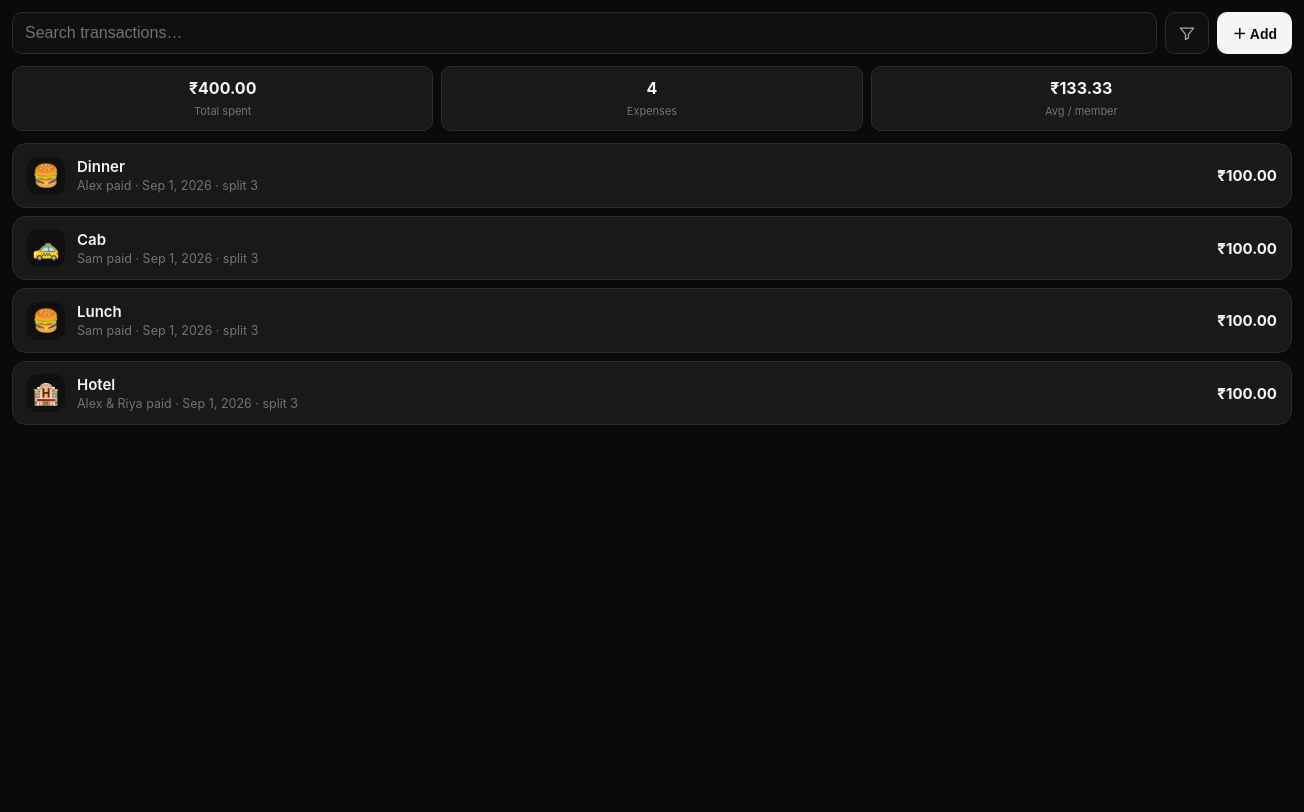
Test case: TransactionsPanel filters › closes the panel from its own X
Click the button named "Filters" at (1187, 33), box [1165,12,1209,54]
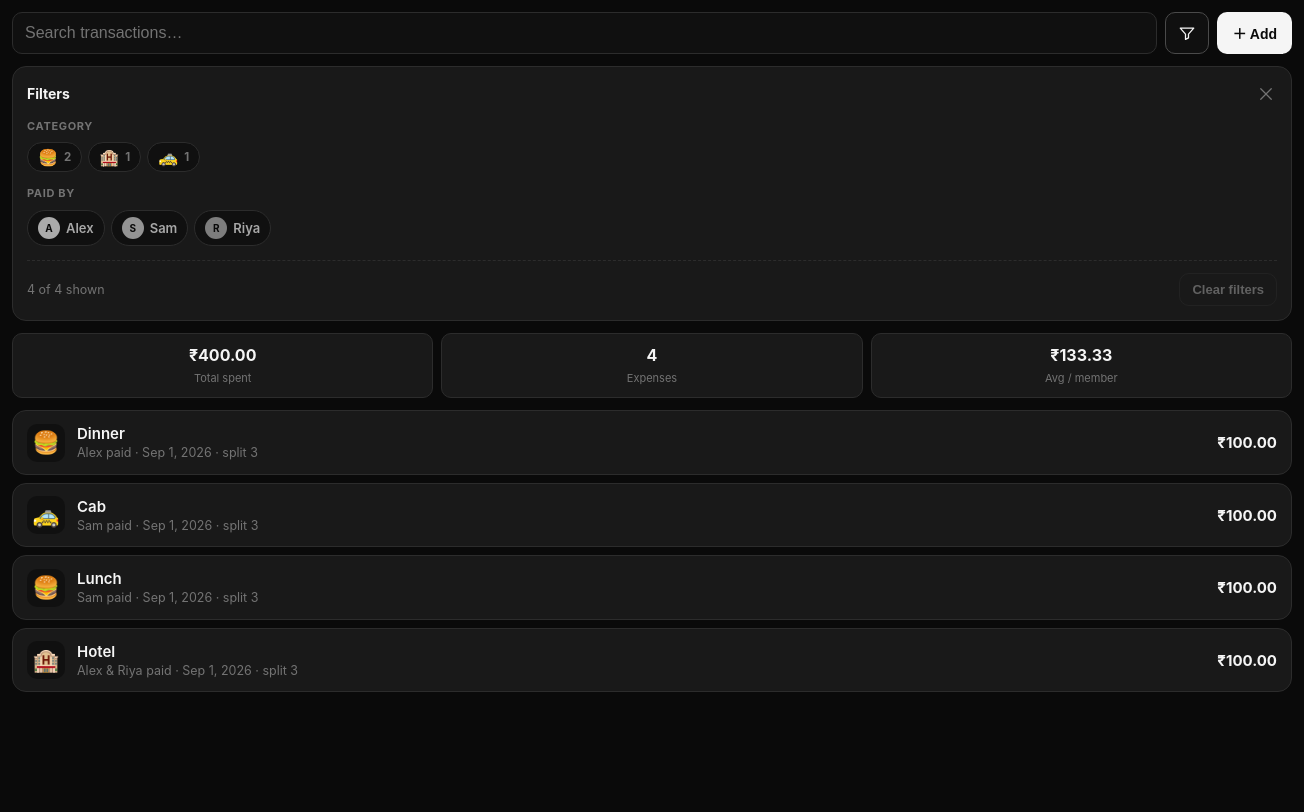
Click the button named "Close filters" at (1266, 94), box [1247,75,1285,113]
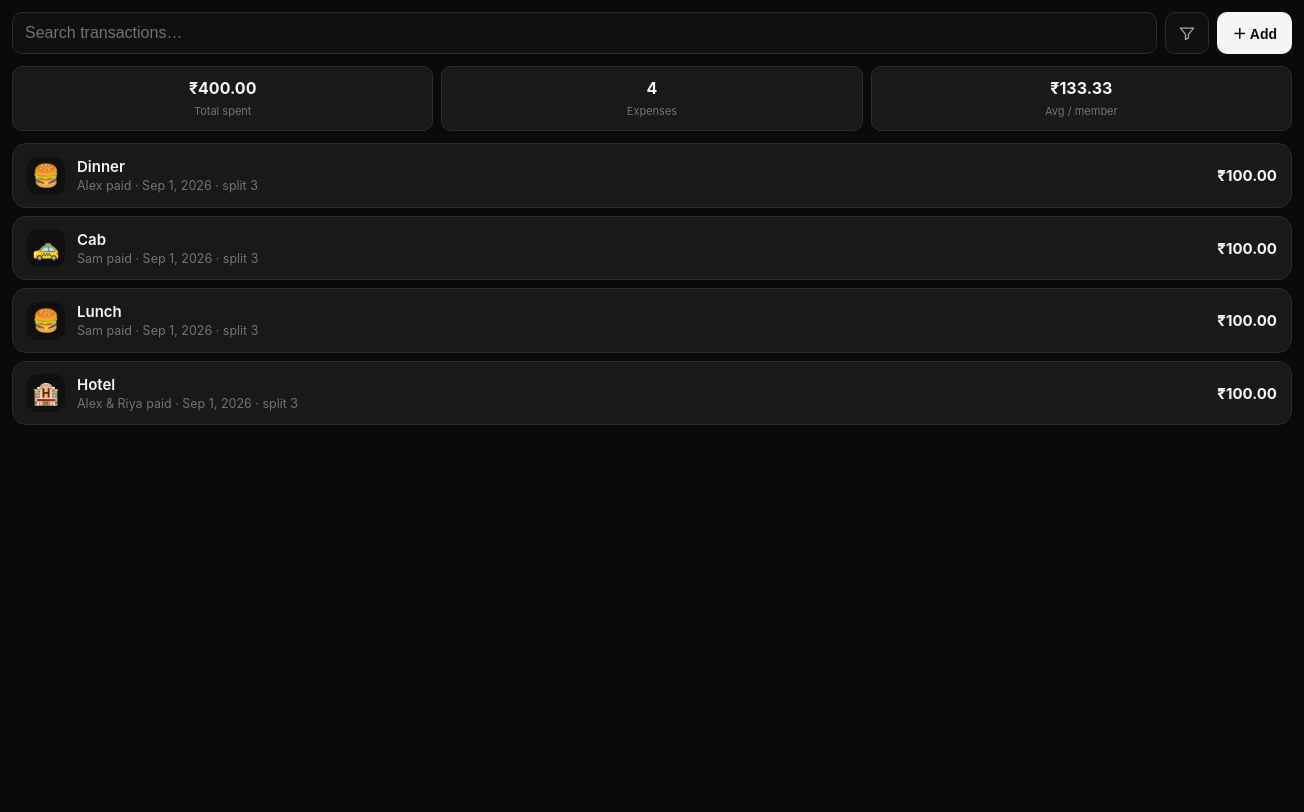
Result: the text "Category" is gone
